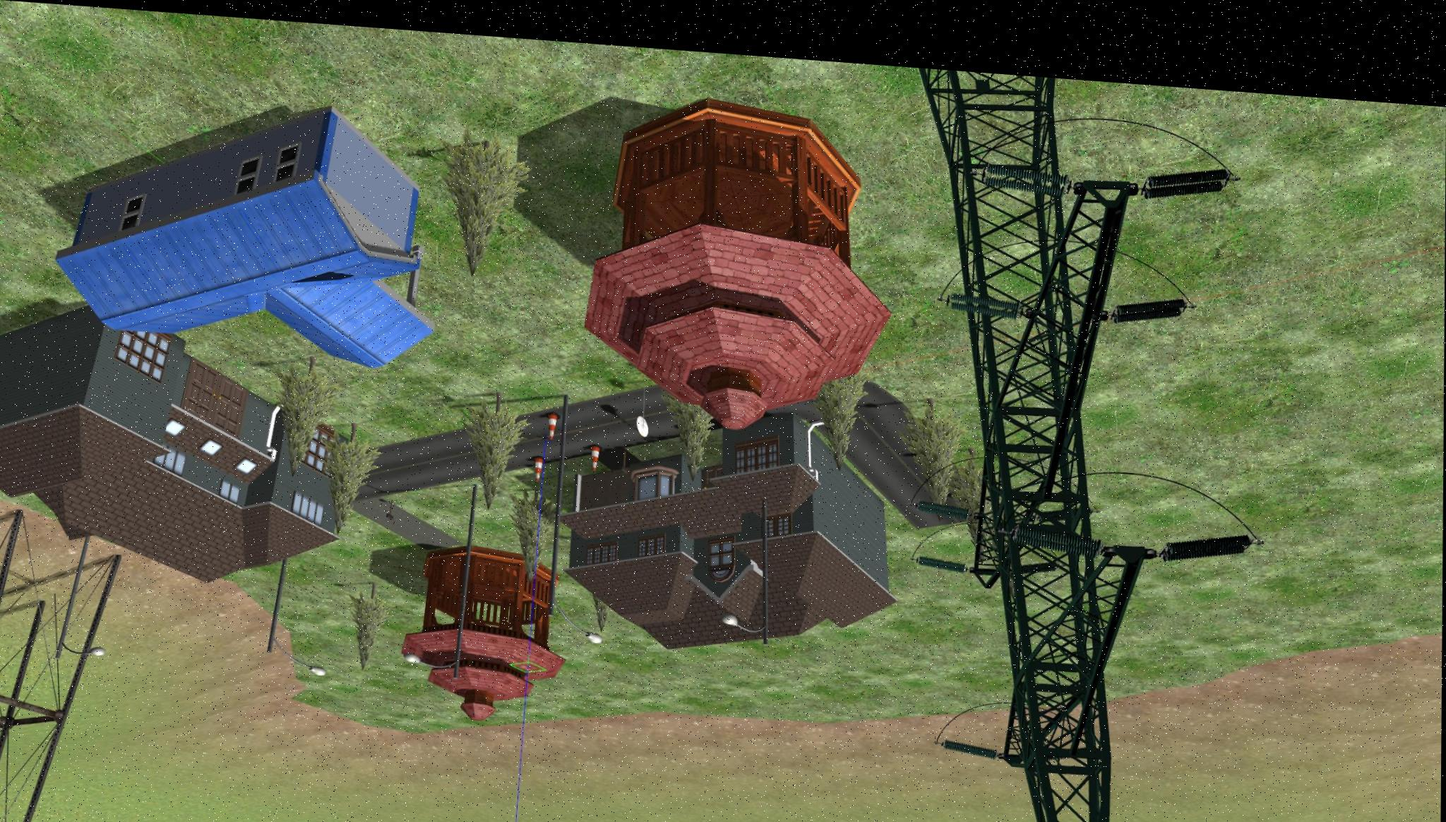tower: (902, 67, 1169, 822)
